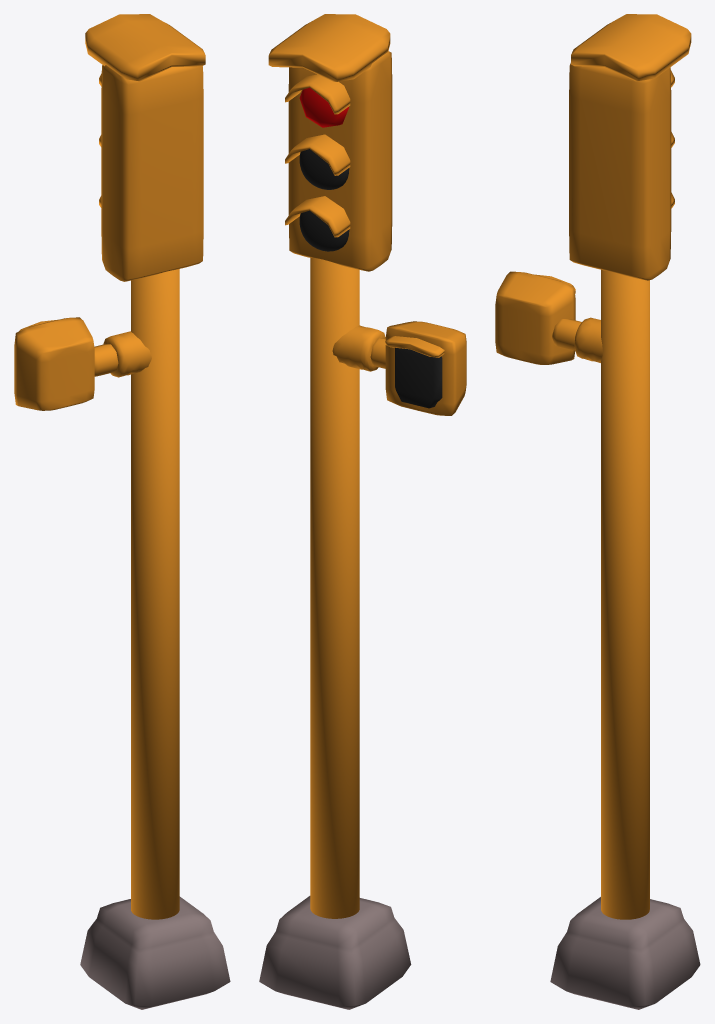
Rendered from semaforo1.fbx.
The picture shows the model from 3 angles, left to right: view 1: azimuth 30°, elevation 25°; view 2: azimuth 150°, elevation 25°; view 3: azimuth 330°, elevation 25°; orthographic projection.
Visible parts, largest first — view 1: Cylinder.001, Cube.020, Cube.006, Cube.027, Cube.009, Cube.025, Cube.026; view 2: Cylinder.001, Cube.020, Cube.006, Cube.009, Cube.027, Cube.023, Cube.028, Cube.025, Cube.022, Cube.024, Cube.021, Cube.029; view 3: Cylinder.001, Cube.020, Cube.006, Cube.027, Cube.009, Cube.025, Cube.026.
Boxes of the visible parts, x1,y1,x2,y2 form: Cylinder.001: (131, 269, 179, 919); Cube.020: (101, 65, 203, 281); Cube.006: (80, 896, 230, 1009); Cube.027: (14, 317, 94, 410); Cube.009: (85, 14, 205, 81); Cube.025: (103, 331, 151, 377); Cube.026: (94, 344, 118, 376); Cylinder.001: (310, 258, 359, 918); Cube.020: (288, 51, 392, 271); Cube.006: (259, 896, 411, 1009); Cube.009: (268, 14, 390, 81); Cube.027: (385, 321, 466, 415); Cube.023: (285, 74, 350, 237); Cube.028: (395, 347, 442, 408); Cube.025: (332, 325, 385, 371); Cube.022: (299, 149, 349, 189); Cube.024: (299, 210, 349, 251); Cube.021: (299, 87, 348, 127); Cube.029: (385, 336, 444, 357); Cylinder.001: (601, 269, 649, 919); Cube.020: (569, 63, 671, 280); Cube.006: (550, 897, 700, 1009); Cube.027: (495, 271, 575, 364); Cube.009: (571, 14, 691, 81); Cube.025: (574, 317, 602, 362); Cube.026: (552, 319, 581, 350).
Bounding box in the file's own units: 554 × 2831 × 336.
